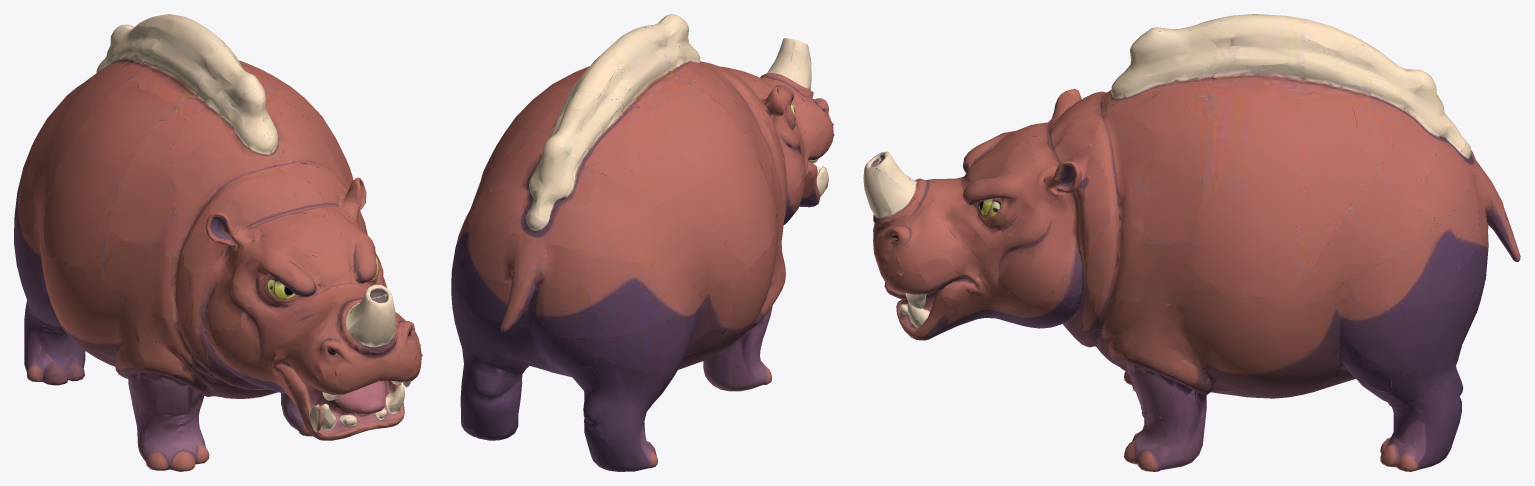
3 renders of one model, left to right at view 1: azimuth 30°, elevation 25°; view 2: azimuth 150°, elevation 25°; view 3: azimuth 270°, elevation 25°, orthographic. The views are drawn at different scales.
Parts seen in each view (by area): view 1: Mesh_0; view 2: Mesh_0; view 3: Mesh_0.
Boxes of the visible parts, x1,y1,x2,y2 form: Mesh_0: [14, 14, 422, 471]; Mesh_0: [451, 14, 834, 471]; Mesh_0: [863, 14, 1520, 471].
Bounding box in the file's own units: 1.02 × 1.29 × 1.91.
Materials: 1 (1 with a texture image).
